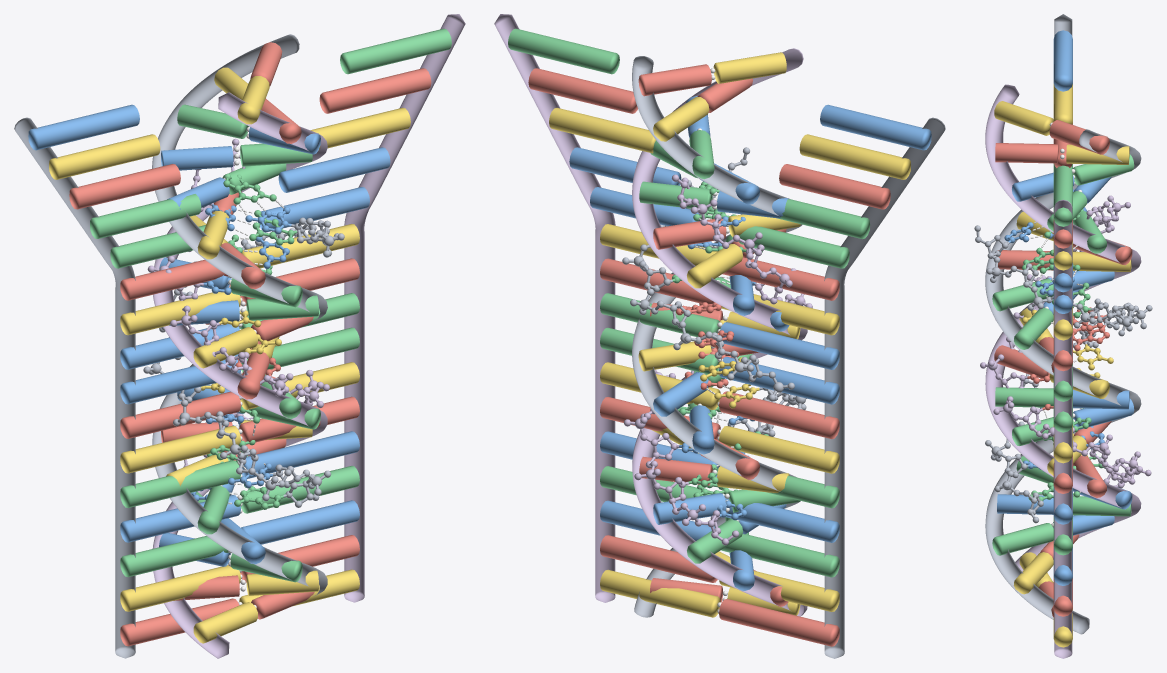
Rendered from dna.glb.
The picture shows the model from 3 angles, left to right: view 1: azimuth 30°, elevation 25°; view 2: azimuth 150°, elevation 25°; view 3: azimuth 270°, elevation 25°; orthographic projection. The views are drawn at different scales.
Parts seen in each view (by area): view 1: cytosine_l, adenine_l, guanine_l, thymine_l, guanine, strand_1, thymine, strand_2_l, adenine, strand_1_l, strand_2, cytosine (+5 smaller); view 2: adenine_l, thymine_l, cytosine_l, guanine_l, thymine, strand_2, strand_2_l, strand_1, adenine, cytosine, strand_1_l, guanine (+6 smaller); view 3: guanine, strand_1, strand_2, adenine, cytosine, thymine, strand_2_l, strand_1_a, strand_2_a, cytosine_l, guanine_l, thymine_l (+6 smaller).
Boxes of the visible parts, x1,y1,x2,y2 form: cytosine_l: (28, 104, 390, 544); adenine_l: (69, 68, 431, 646); guanine_l: (90, 28, 451, 577); thymine_l: (49, 107, 410, 611); guanine: (177, 104, 320, 582); strand_1: (152, 34, 327, 596); thymine: (166, 67, 318, 643); strand_2_l: (344, 14, 465, 602); adenine: (161, 42, 314, 619); strand_1_l: (14, 117, 135, 658); strand_2: (152, 92, 327, 658); cytosine: (159, 127, 320, 566); adenine_l: (528, 68, 890, 646); thymine_l: (549, 107, 910, 617); cytosine_l: (569, 104, 931, 542); guanine_l: (508, 28, 870, 577); thymine: (638, 52, 800, 615); strand_2: (632, 48, 807, 616); strand_2_l: (494, 14, 615, 602); strand_1: (632, 56, 802, 617); adenine: (638, 64, 788, 606); cytosine: (653, 96, 789, 590); strand_1_l: (824, 117, 945, 658); guanine: (639, 130, 799, 563); guanine: (992, 154, 1134, 555); strand_1: (985, 129, 1141, 634); strand_2: (985, 84, 1141, 571); adenine: (994, 120, 1132, 617); cytosine: (997, 172, 1134, 535); thymine: (994, 101, 1131, 594); strand_2_l: (1054, 199, 1072, 658); strand_1_a: (974, 225, 1152, 523); strand_2_a: (980, 195, 1151, 488); cytosine_l: (1053, 30, 1072, 585); guanine_l: (1053, 164, 1072, 555); thymine_l: (1053, 84, 1072, 647).
Size of the model in its own units: 0.1331 by 0.1616 by 0.0516.
